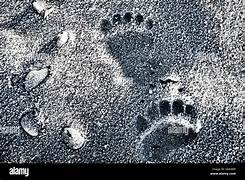bear: (97, 9, 158, 88), (132, 97, 201, 160)
